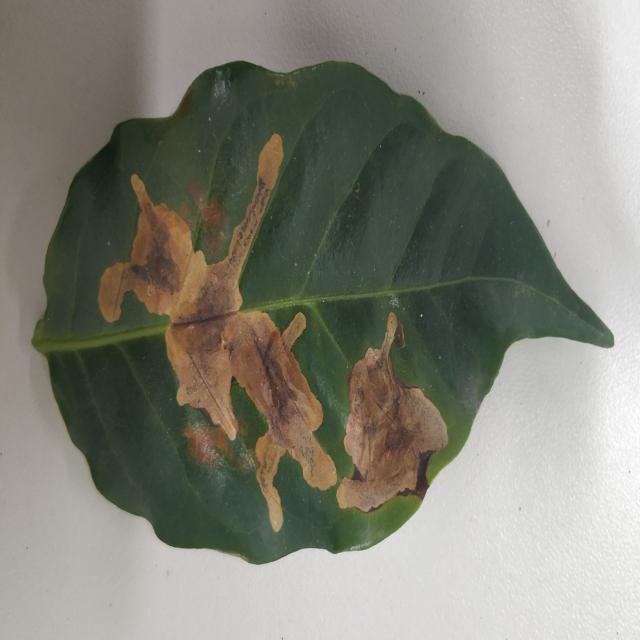Plaga-Minador: (31, 61, 615, 568)
